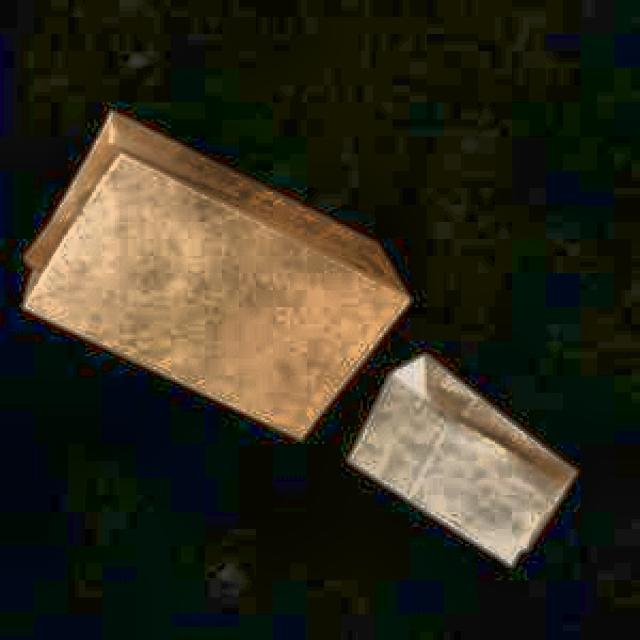Paper-bag: (11, 95, 424, 457), (337, 344, 593, 580)
